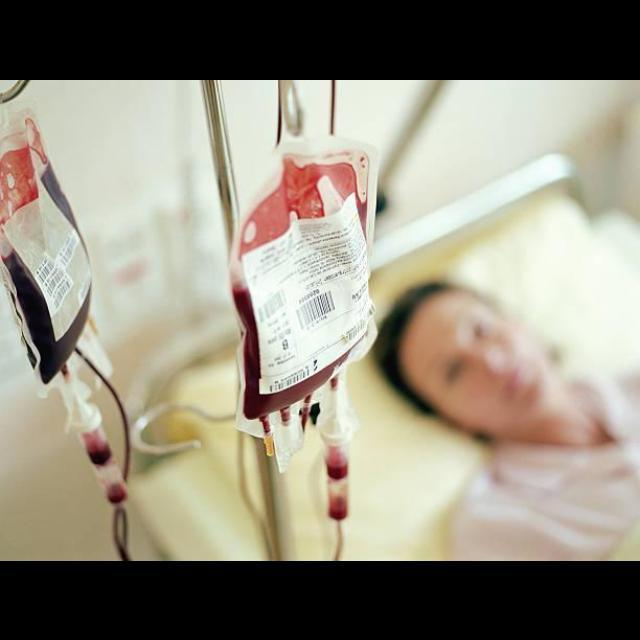blood: (230, 134, 379, 419), (0, 107, 91, 382), (74, 347, 131, 482), (80, 426, 127, 505), (113, 503, 131, 560)
